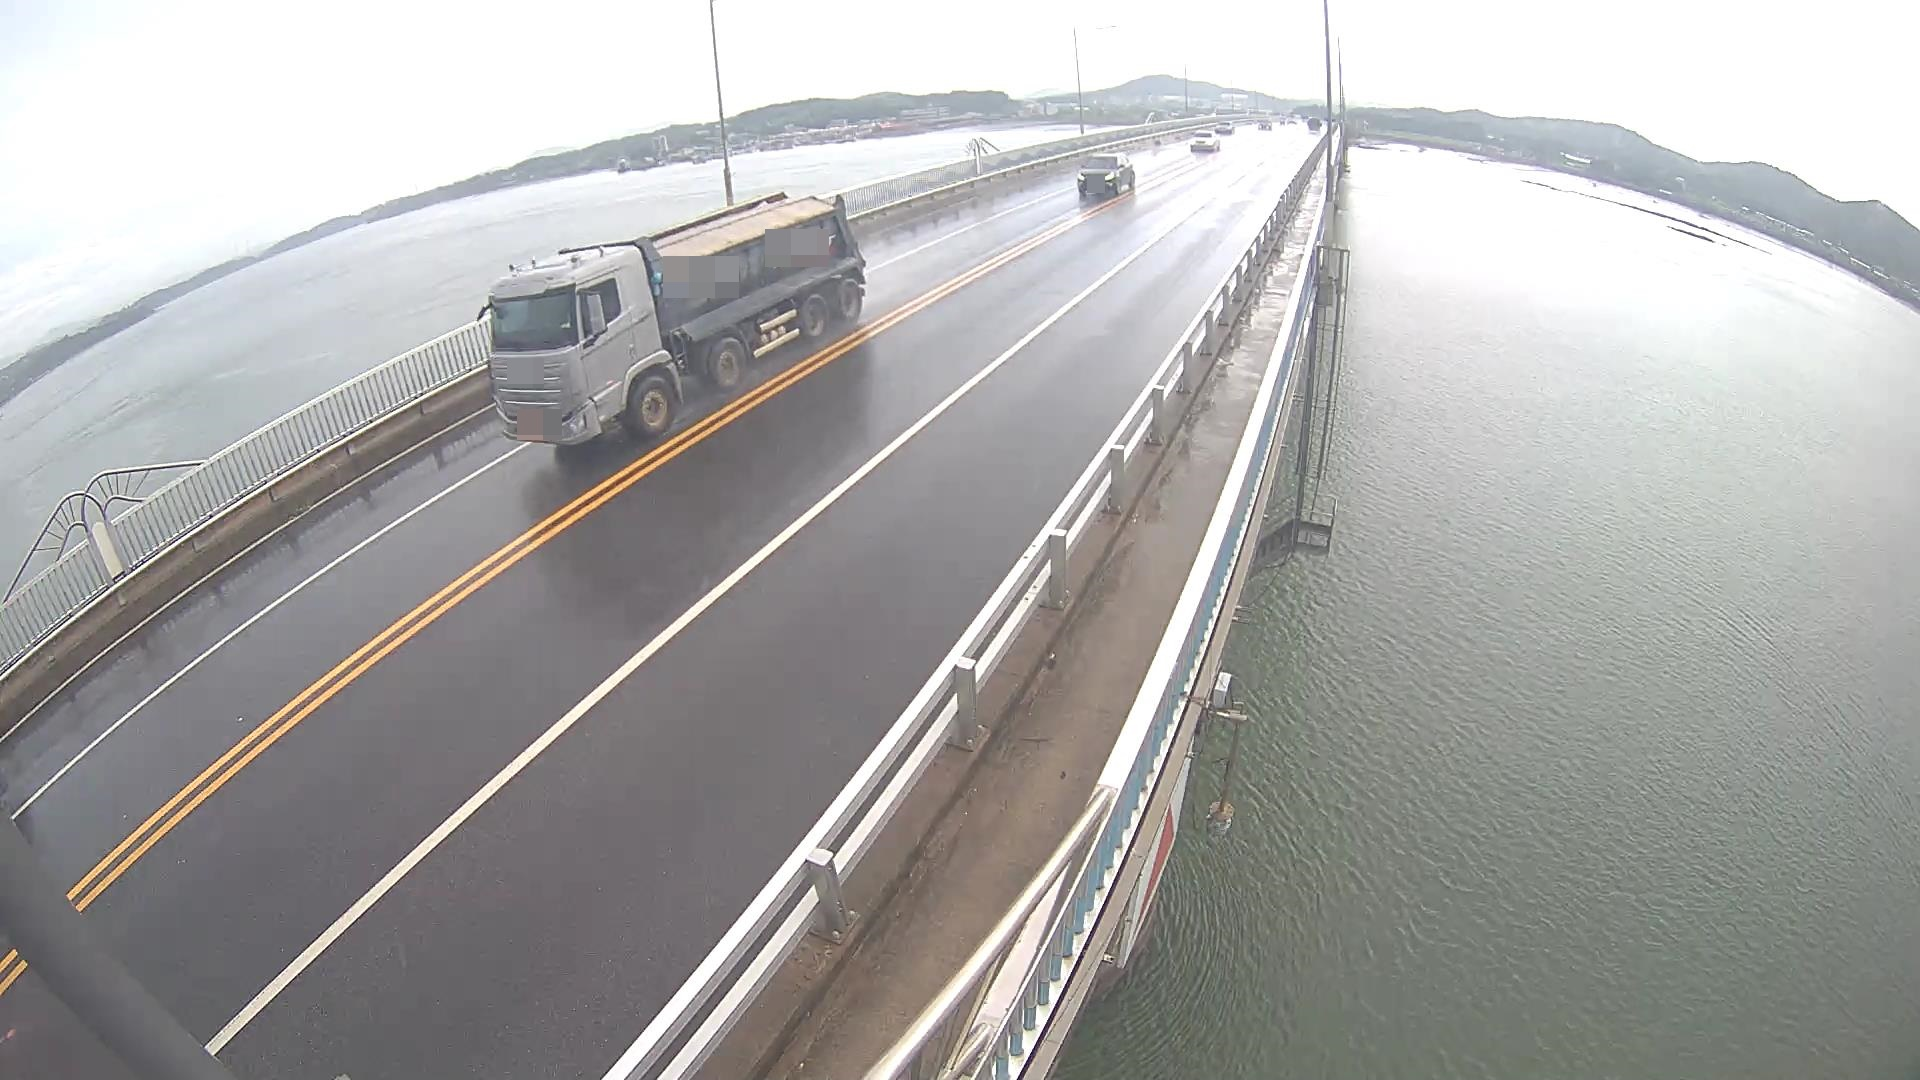정상차량: (477, 191, 867, 447)
